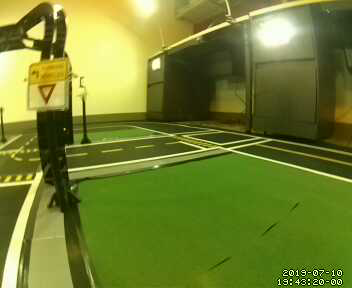Turn Yield: (27, 60, 72, 110)
